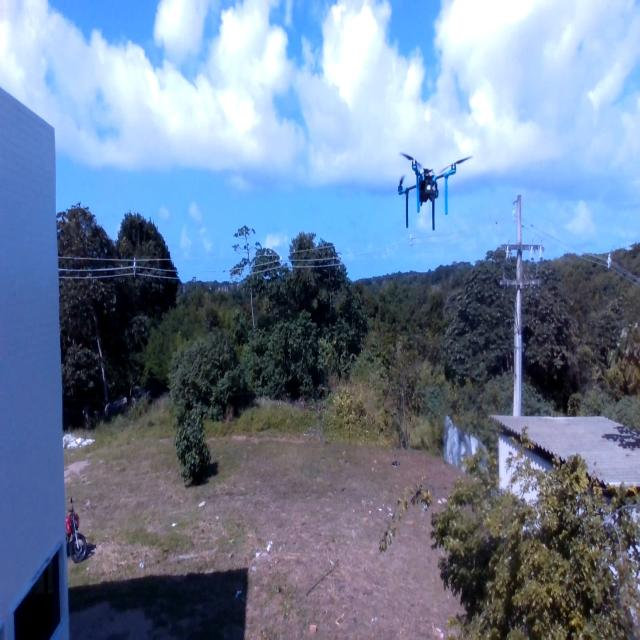-uav-: (381, 134, 480, 238)
